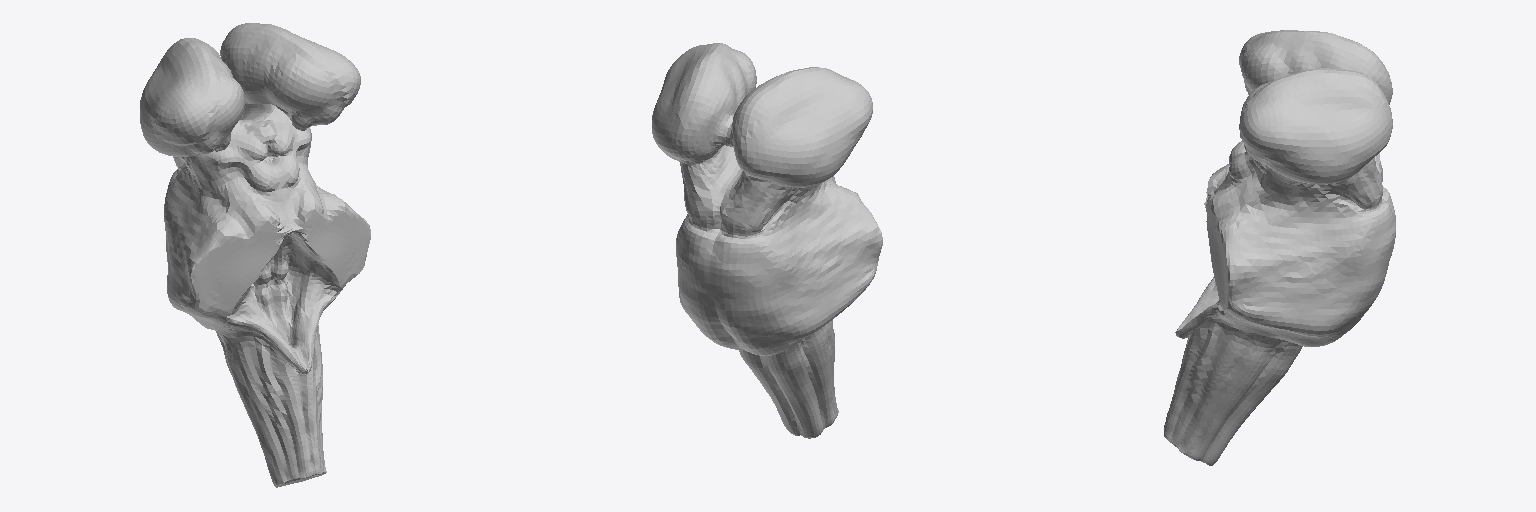
File: bstemcombaked.obj
The picture shows the model from 3 angles: view 1: azimuth 30°, elevation 25°; view 2: azimuth 150°, elevation 25°; view 3: azimuth 270°, elevation 25°; orthographic projection.
Parts seen in each view (by area): view 1: Group59853; view 2: Group59853; view 3: Group59853.
Boxes of the visible parts, x1=… form: Group59853: x1=140, y1=23, x2=370, y2=487; Group59853: x1=652, y1=43, x2=882, y2=438; Group59853: x1=1164, y1=30, x2=1395, y2=465.
Size of the model in its own units: 529 by 1052 by 542.